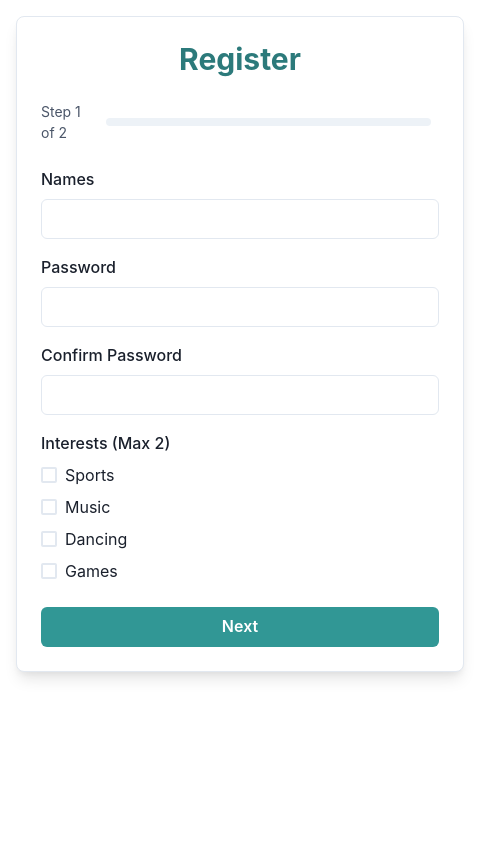
Test case: RegisterForm › shows validation errors for Step 1 fields on Next click
Step 1. Click the button "Next" → (240, 627), box [41,607,439,647]
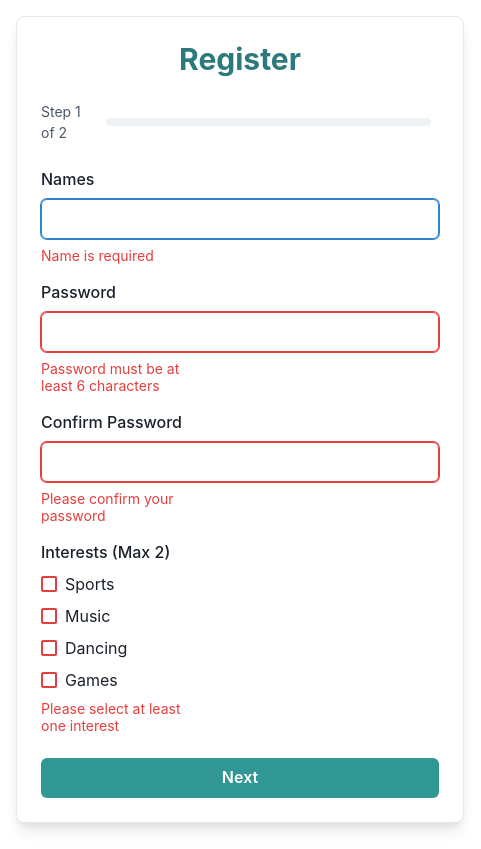
Check: the text "Name is required" is shown, box [41,247,154,264]
Check: the text "Password must be at least 6 characters" is shown, box [41,360,201,394]
Check: the text "Please confirm your password" is shown, box [41,490,174,524]
